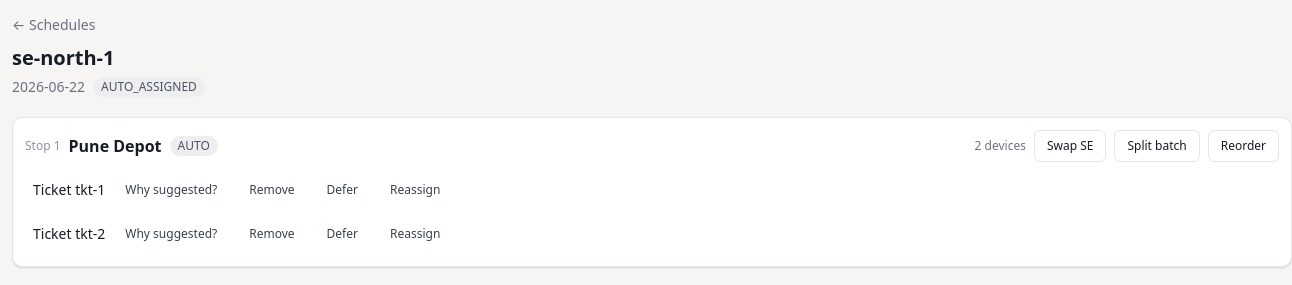
Test: ZM override — Reassign ticket (Issue 13b AC#3/#4) › reassigns one ticket to a target SE with a mandatory reason
Click the button "Reassign" in the row of "tkt-1" at (415, 190), box [378,174,452,206]
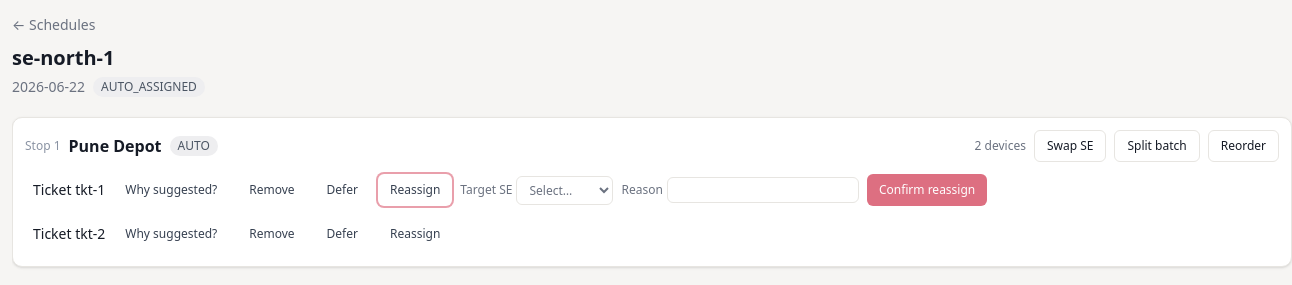
Expected: the button "Confirm reassign" is disabled, [867,174,987,206]
Select "se-north-2" in the dropdown labelled "Target SE" at (565, 190), box [516,176,614,204]
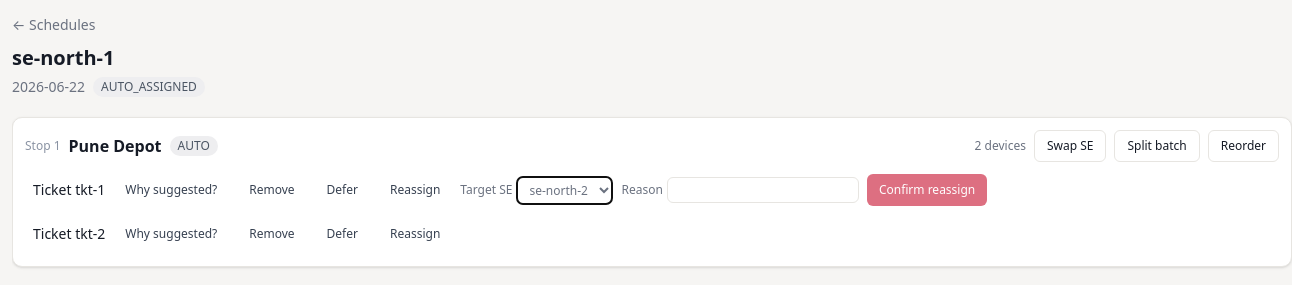
Type "closer se" into the field labelled "Reason" at (763, 190), box [667,177,859,203]
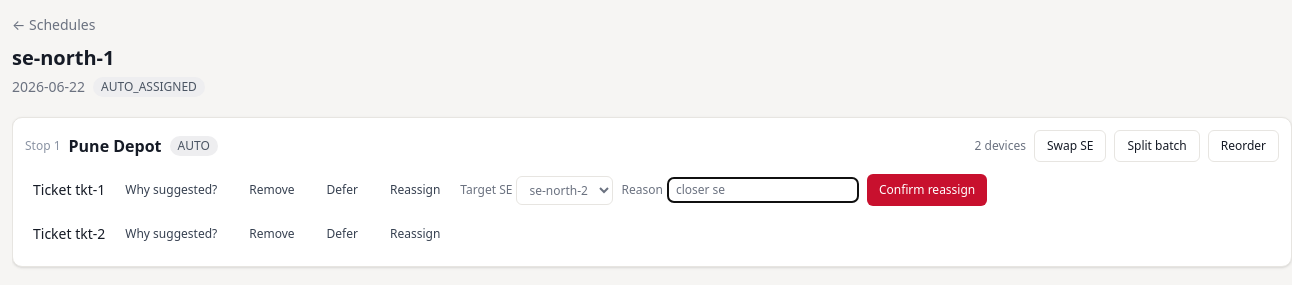
Click the button "Confirm reassign" at (927, 190), box [867,174,987,206]
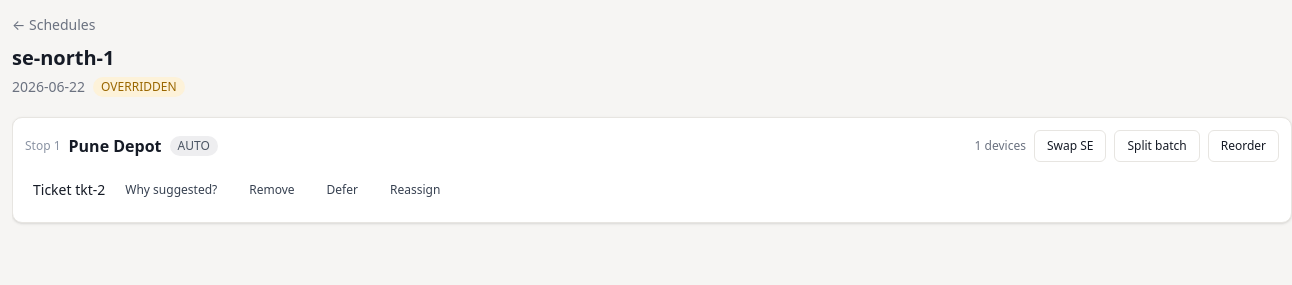
Expected: the list item with test id "ticket-row-tkt-1" is gone
Expected: the element with test id "schedule-status-OVERRIDDEN" is shown, [93,76,184,97]
